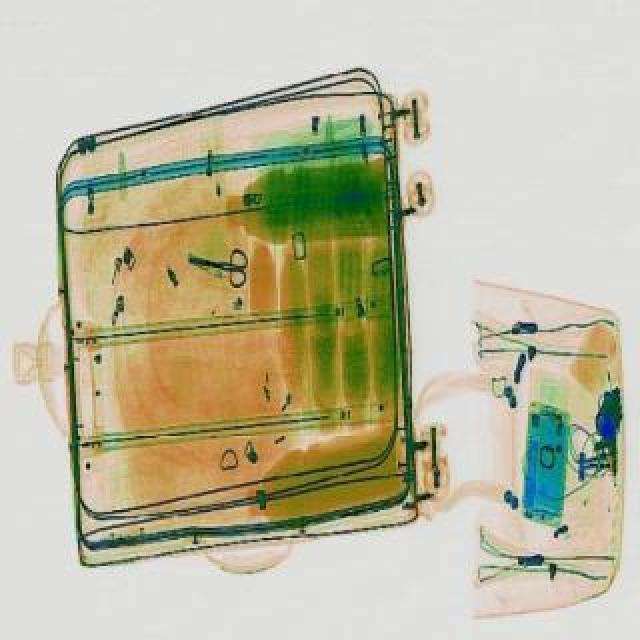pliers: (180, 238, 254, 292)
